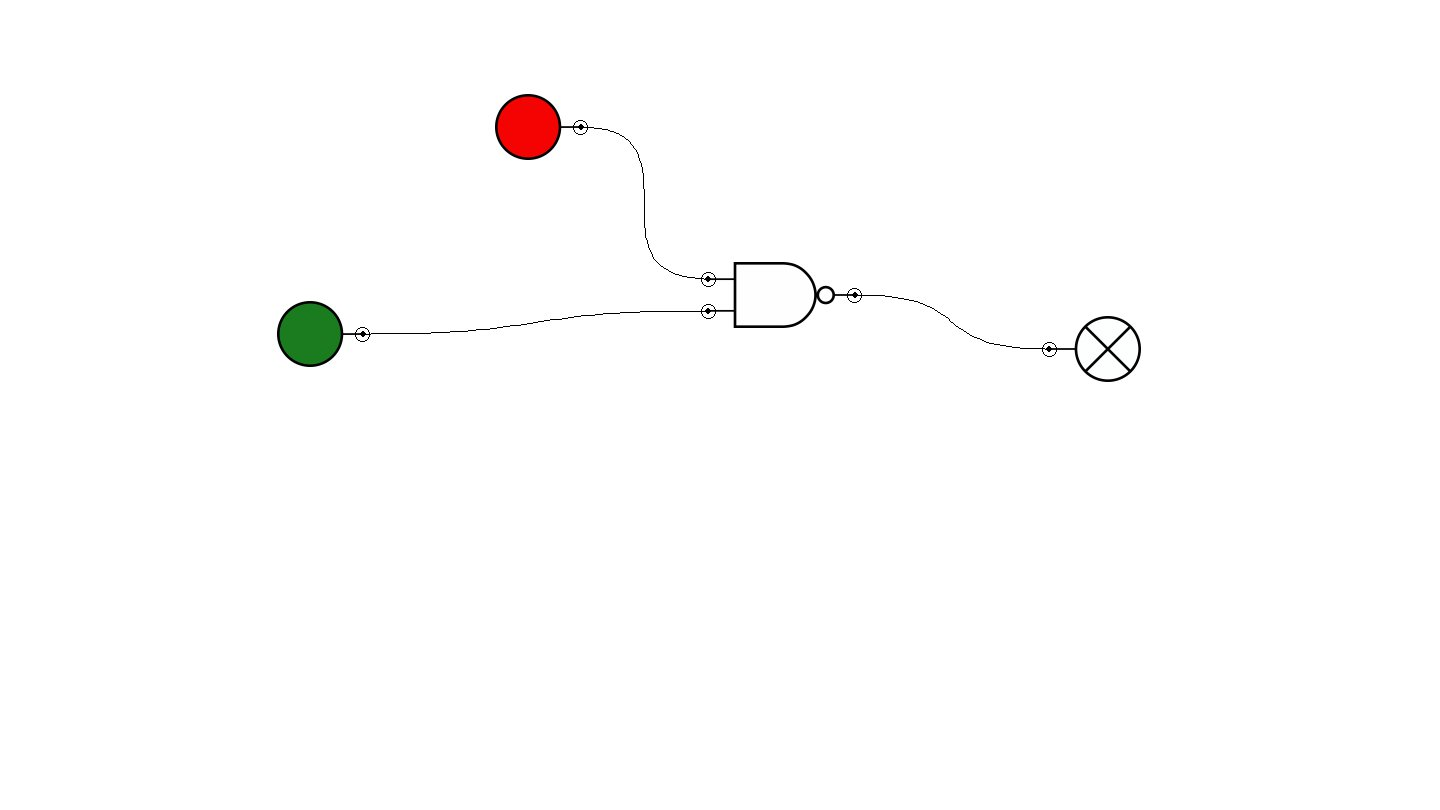bulb: (1042, 316, 1141, 382)
nand: (701, 262, 862, 328)
switch_False: (495, 94, 588, 160)
switch_True: (277, 301, 370, 367)
